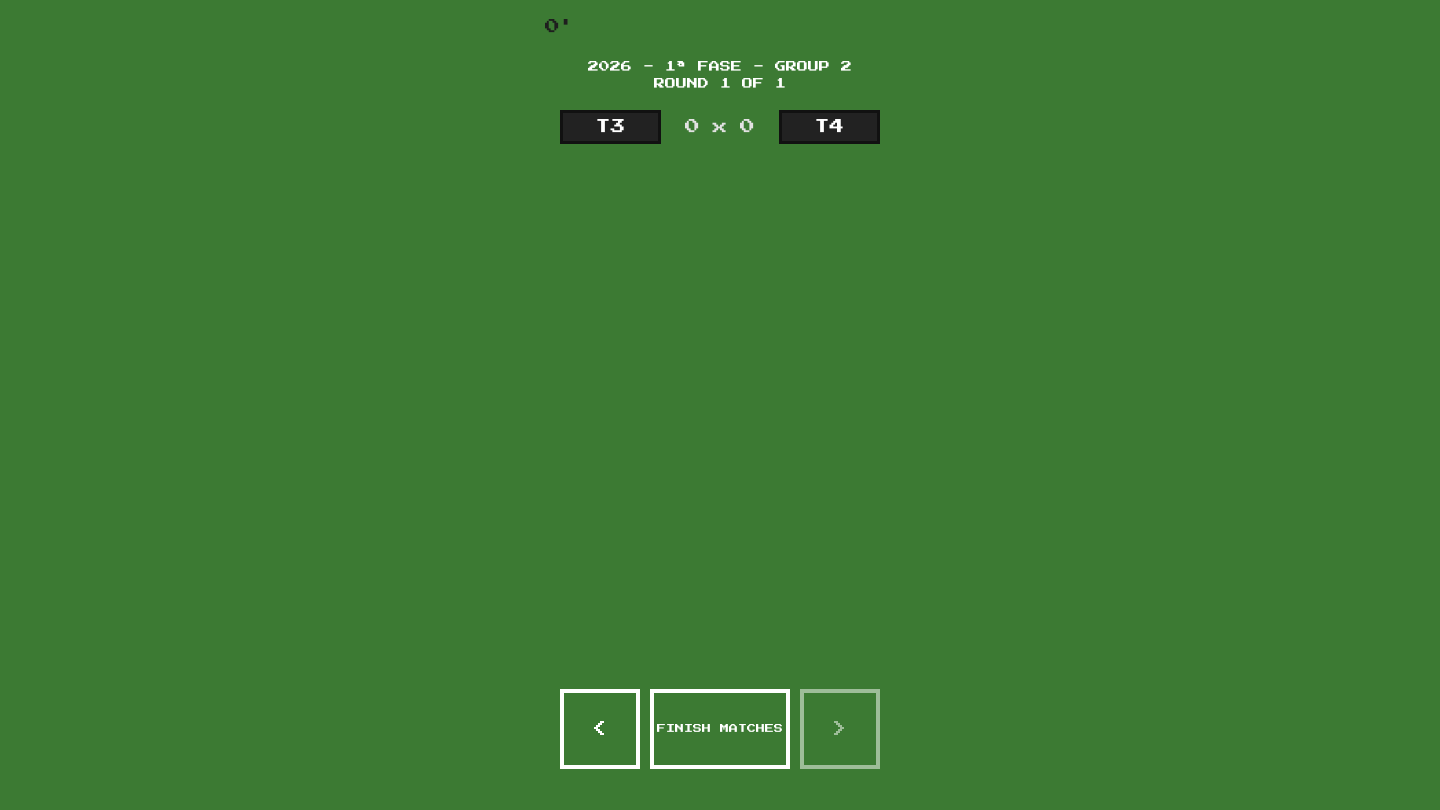
it: MatchSimulator — group stage › opens on the group of the human's team
The image size is (1440, 810).
Check: the text "2026 - 1ª Fase - GROUP 2" is shown, box [565,59,875,76]
Check: the heading "T4" is shown, box [814,116,844,138]
What coordinates should you click on to do the following:
click the button "<"
I would click on:
 (600, 729)
Its box is [560,689,640,769].
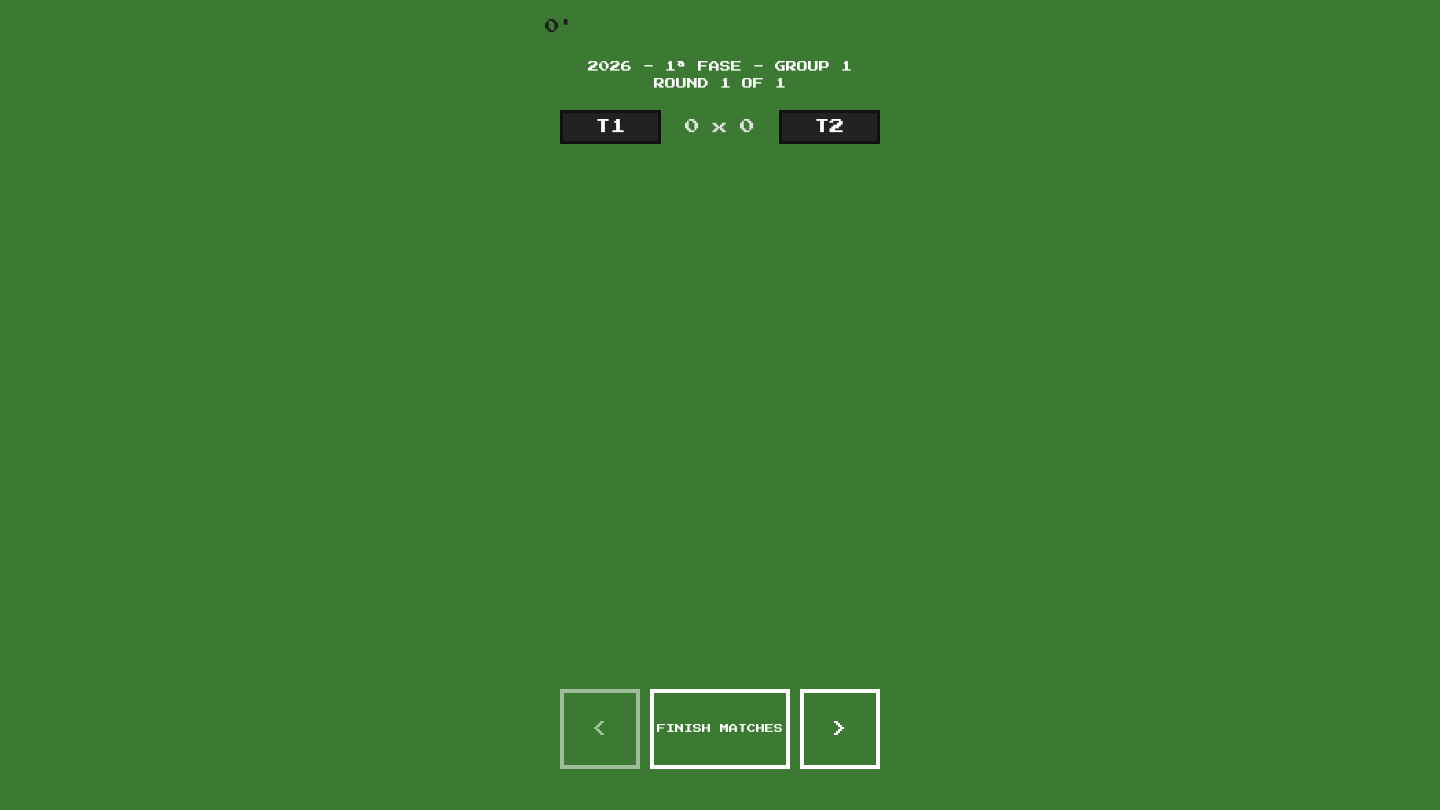
Check: the text "2026 - 1ª Fase - GROUP 1" is shown, box [565,59,875,76]
Check: the heading "T1" is shown, box [596,116,626,138]
